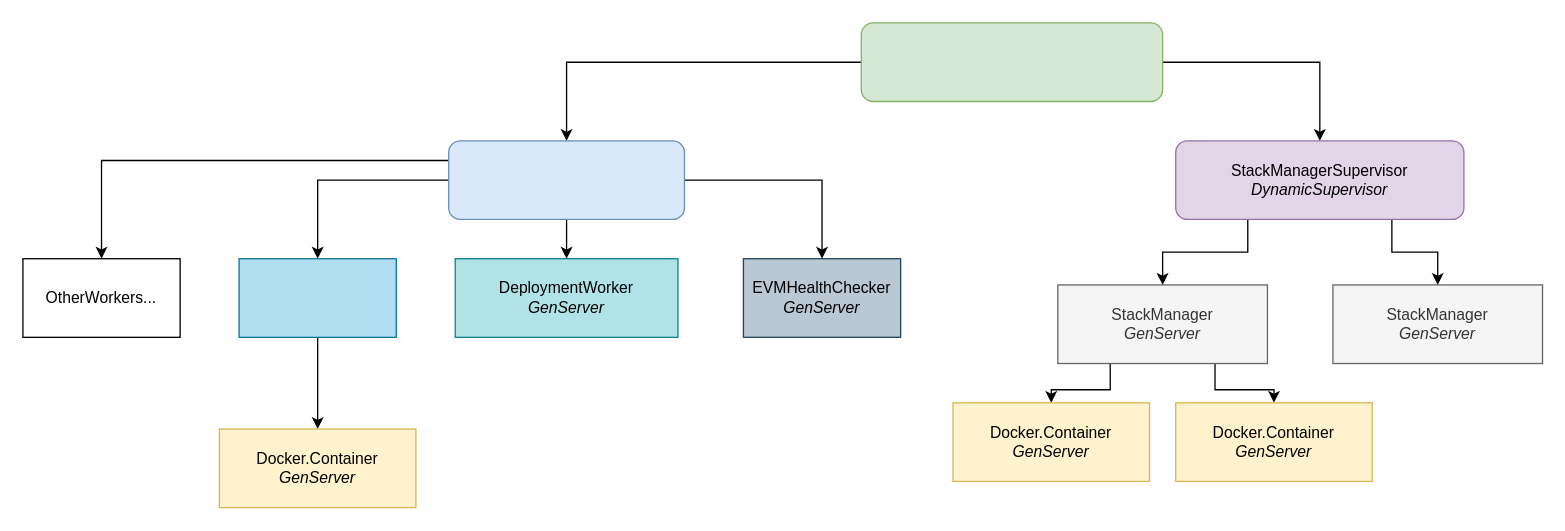
This 1565x531 diagram has some shape labels left out. The centre of each missing label's shape, as x and y in pixels:
"DeploymentScopeSupervisor Supervisor" goes at pixel 1011 62.
"EVM GenServer" goes at pixel 317 297.
"TestchainSupervisor Supervisor" goes at pixel 565 179.
